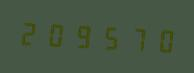five: (96, 19, 121, 54)
nine: (70, 18, 95, 52)
seven: (122, 21, 147, 55)
two: (17, 15, 42, 50)
zero: (43, 17, 68, 51), (148, 22, 173, 56)
